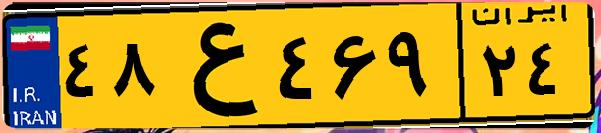2: (475, 38, 525, 113)
4: (270, 28, 330, 110), (57, 26, 110, 100), (525, 38, 570, 115)
6: (330, 28, 385, 110)
8: (110, 28, 158, 98)
9: (385, 28, 445, 110)
ع: (158, 12, 270, 120)
